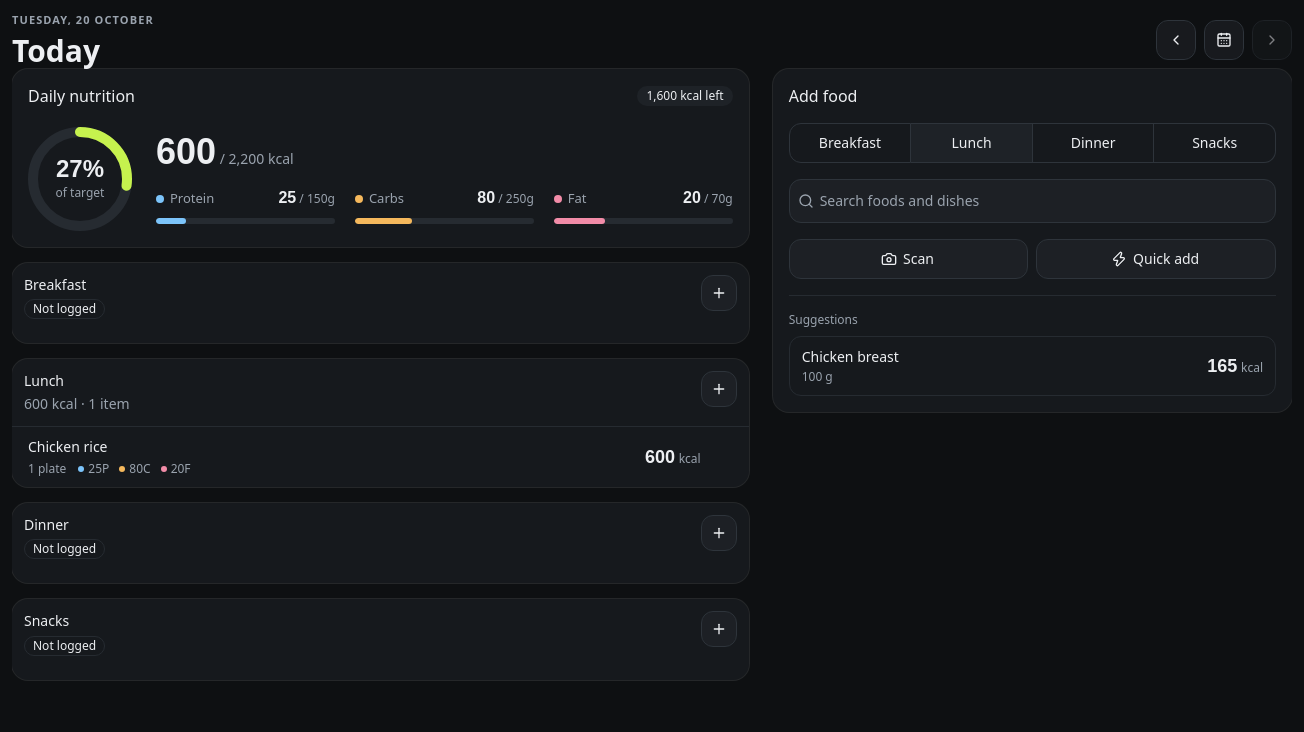
it: FoodPage › jumps to a day chosen from the calendar
Expected: the text "Chicken rice" is shown, left=28, top=437, right=108, bottom=456
Click the button named "Choose a day" at point(1224, 40), box left=1204, top=20, right=1244, bottom=60
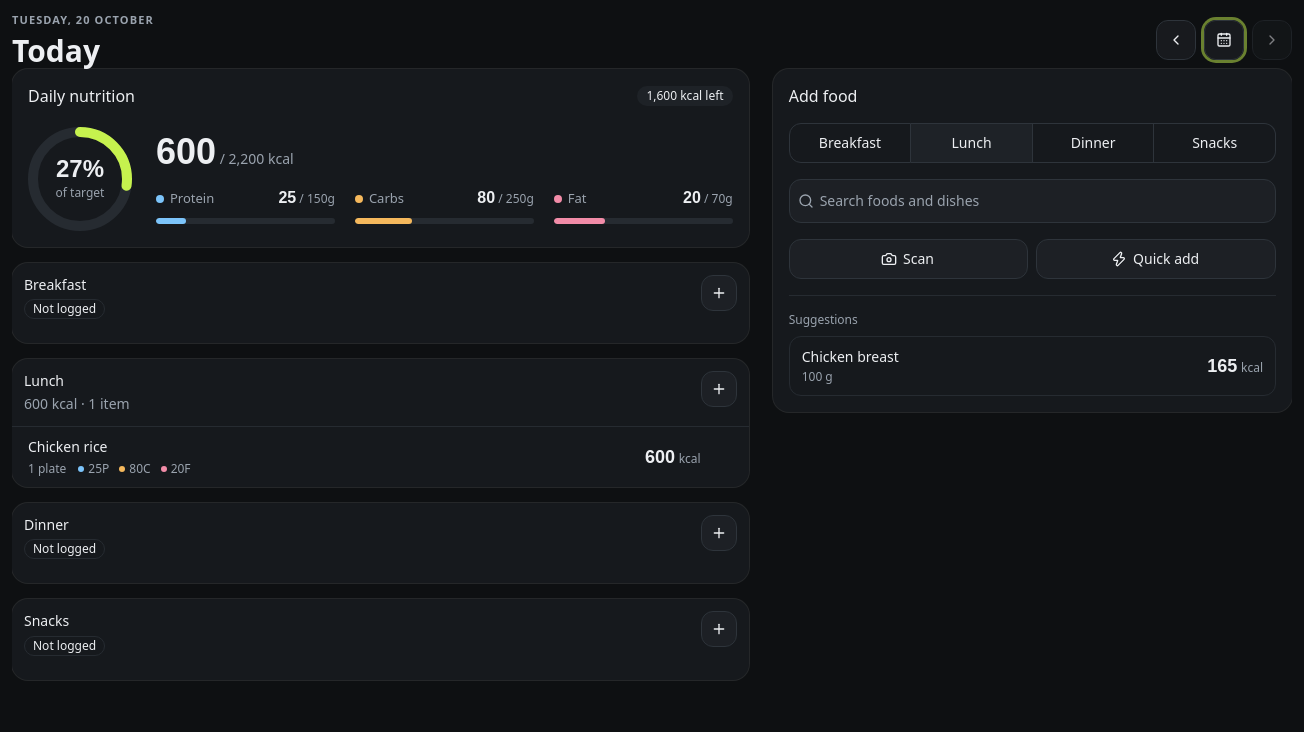
Type "2026-10-15" into the date field labelled "day" at point(83, 20), box left=12, top=12, right=1292, bottom=68
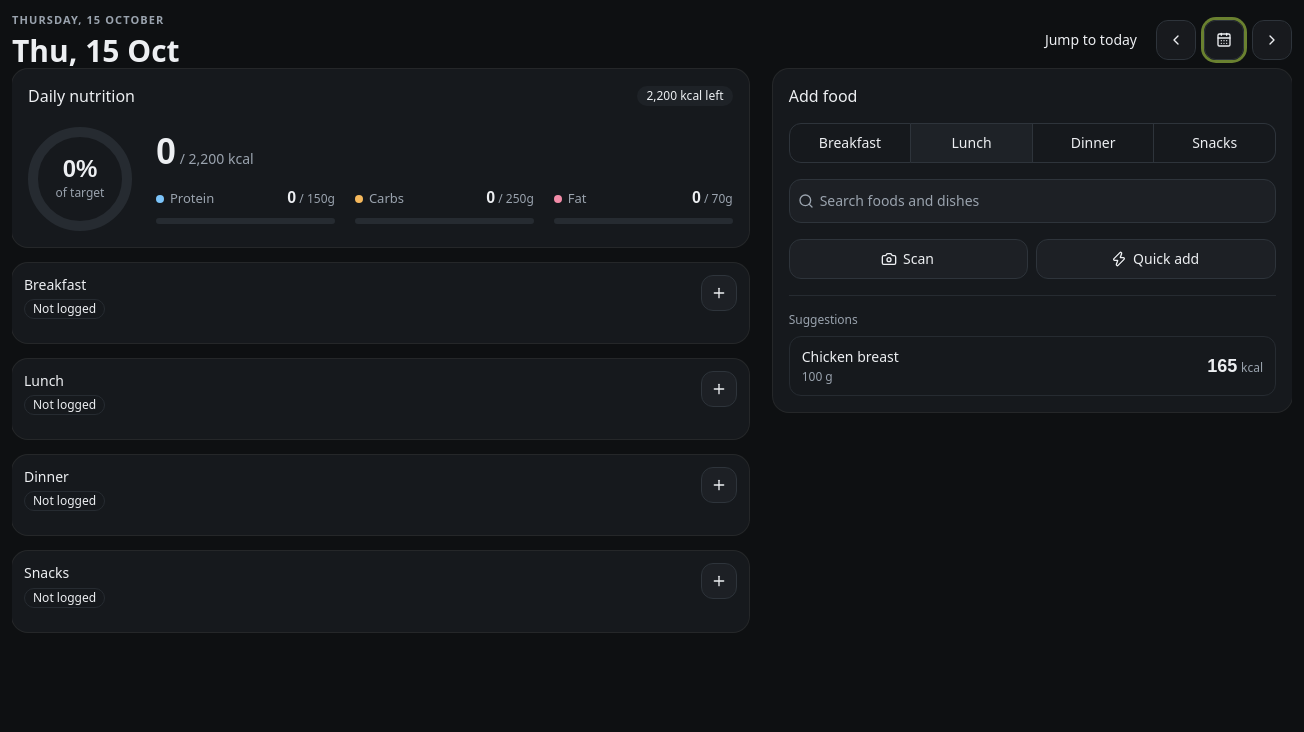
Expected: the text "Thursday, 15 October" is shown, left=12, top=12, right=180, bottom=28
